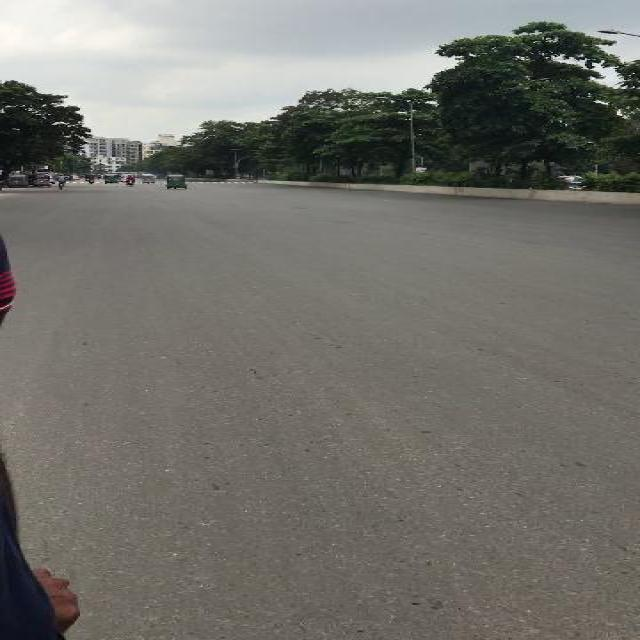10: (126, 175, 134, 185), (87, 174, 94, 184)
17: (162, 174, 185, 190), (28, 173, 50, 187), (8, 174, 28, 186), (140, 173, 154, 183), (103, 173, 117, 183)
Motorcycle: (56, 174, 65, 188)
